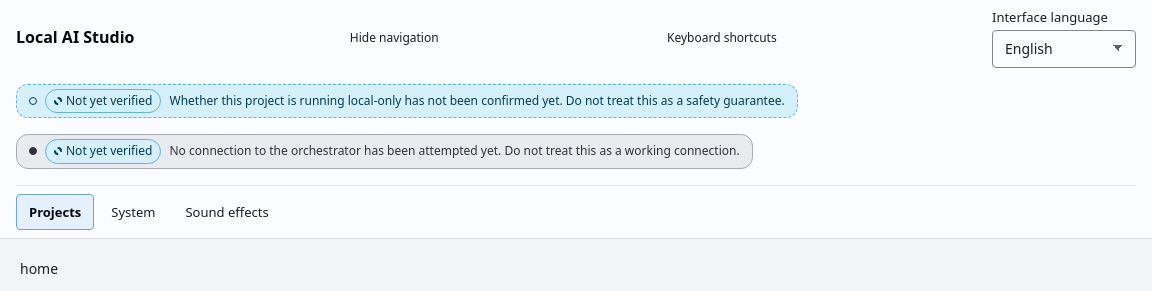
Test: the navigation collapse control › hides the primary navigation and says so, rather than only changing a stored value
This screenshot has width=1152, height=291.
Step 1. Click the button "Hide navigation" → (394, 38), box left=337, top=26, right=452, bottom=50
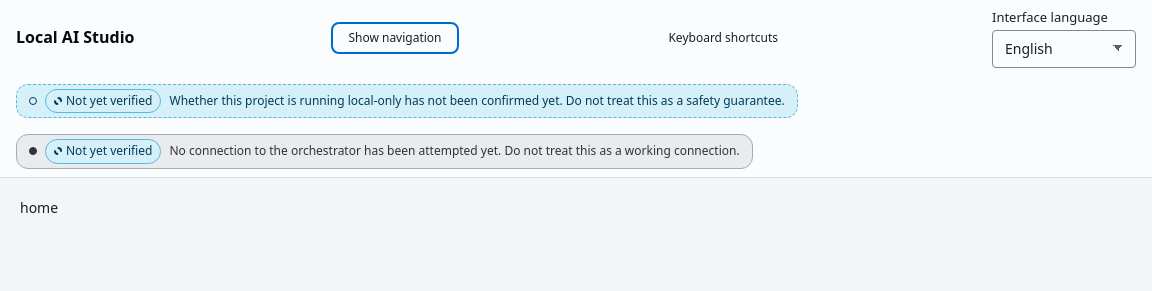
expect the button "Show navigation" is shown: met, box left=335, top=26, right=454, bottom=50
